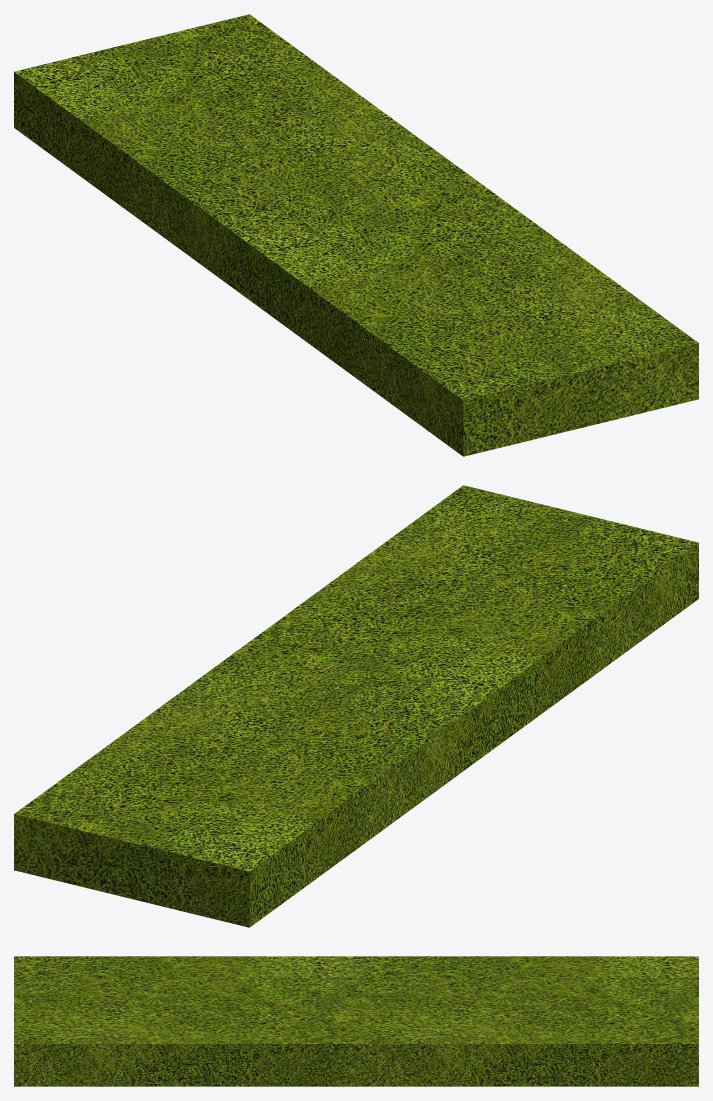
Rendered from Platform_I_Lowland.FBX.
3 views of the same model, one above another, from view 1: azimuth 30°, elevation 25°; view 2: azimuth 150°, elevation 25°; view 3: azimuth 270°, elevation 25° (orthographic). The views are drawn at different scales.
Visible parts, largest first — view 1: Platform_I; view 2: Platform_I; view 3: Platform_I.
Part boxes in pixels (x1,y1,x2,y2): Platform_I: [14, 14, 698, 456]; Platform_I: [14, 485, 698, 927]; Platform_I: [14, 956, 698, 1086].
Size of the model in its own units: 773 by 176 by 2554.
